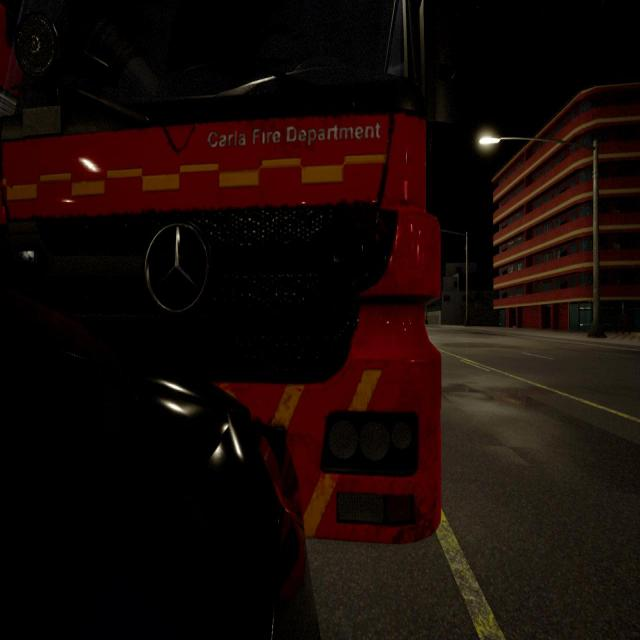Vehicle: (0, 1, 436, 536), (0, 291, 321, 640)
